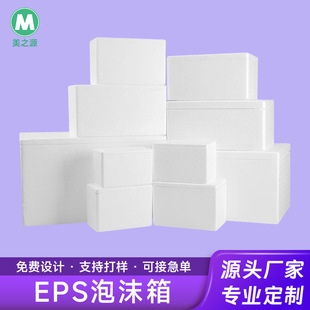Boxes: (20, 38, 290, 231)
